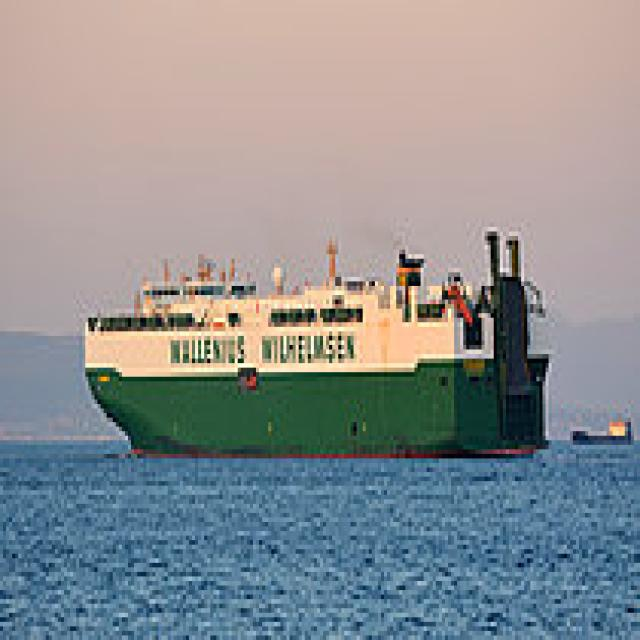Carrier: (76, 222, 552, 458)
